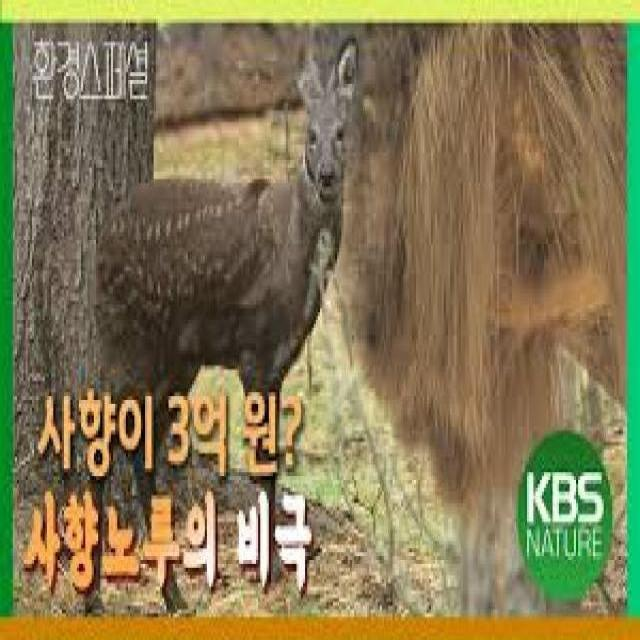deer: (88, 43, 364, 400)
